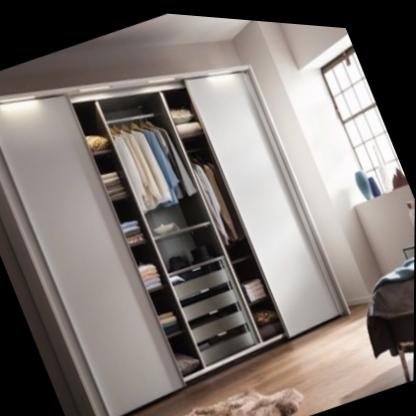Closet: (0, 60, 351, 416)
